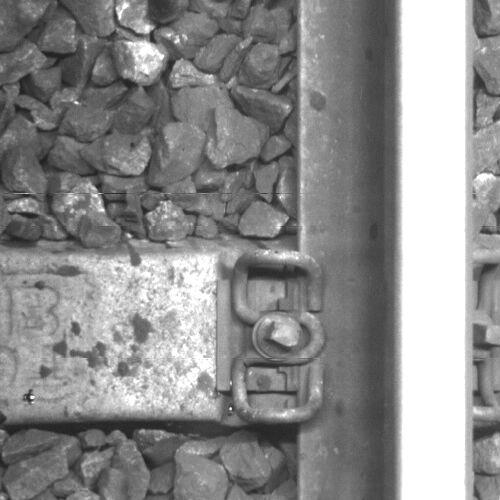rail: (396, 1, 473, 500)
tie_concr: (1, 258, 296, 419)
vossloh: (215, 247, 326, 419)
